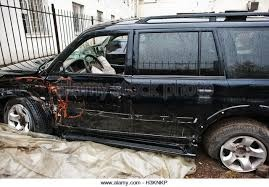Scratch: (32, 85, 74, 119), (173, 126, 196, 152)
